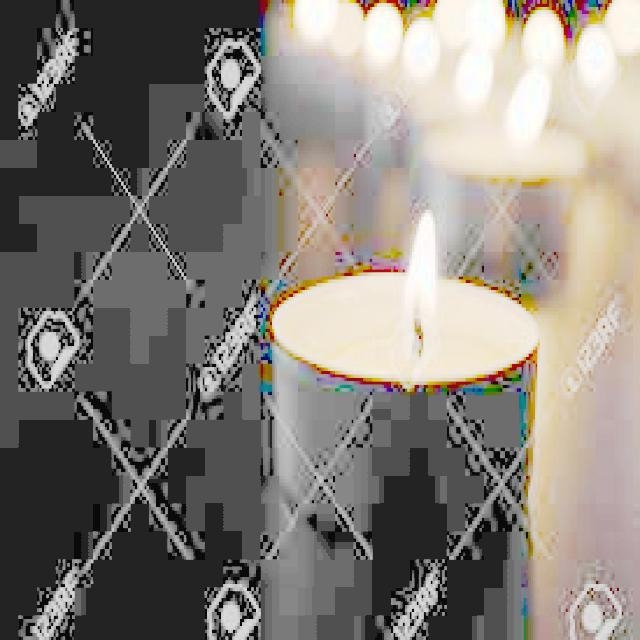api: (401, 197, 450, 354)
